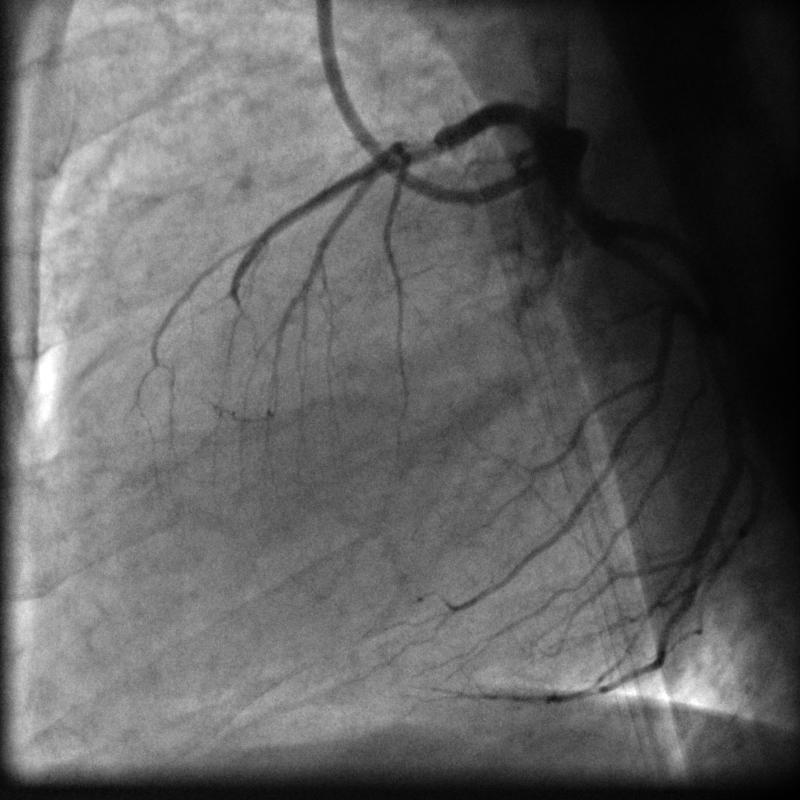Stenosis: (390, 131, 446, 169)
